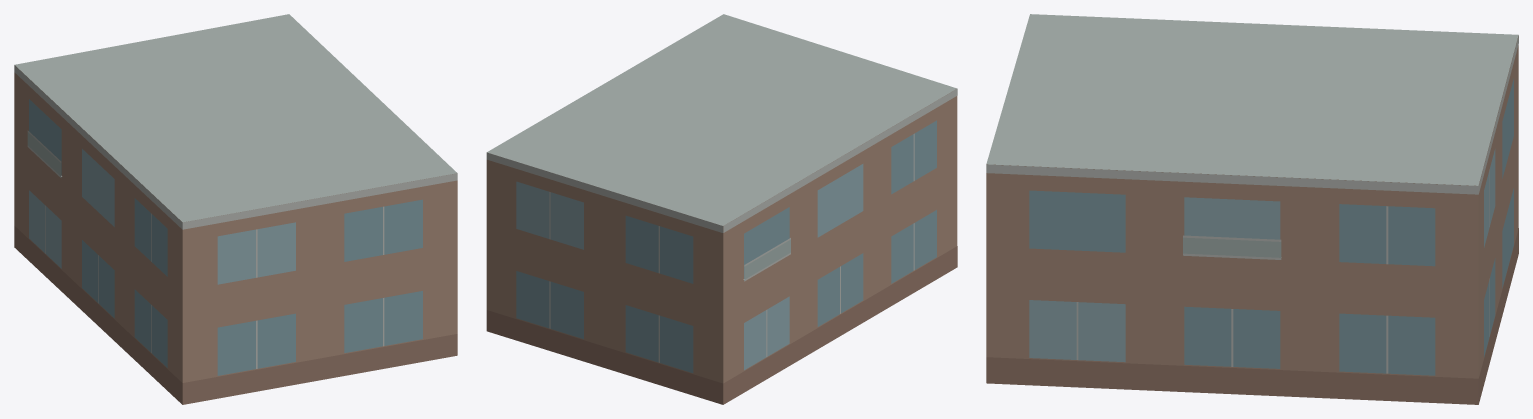
Rendered from survey-upis-32671507.glb.
3 views of the same model, side by side, from view 1: azimuth 30°, elevation 25°; view 2: azimuth 150°, elevation 25°; view 3: azimuth 270°, elevation 25° (orthographic). The views are drawn at different scales.
Visible parts, largest first — view 1: survey-upis-32671507.tmp; view 2: survey-upis-32671507.tmp; view 3: survey-upis-32671507.tmp.
Part boxes in pixels (x1=…): survey-upis-32671507.tmp: x1=14, y1=14, x2=457, y2=404; survey-upis-32671507.tmp: x1=486, y1=14, x2=957, y2=404; survey-upis-32671507.tmp: x1=986, y1=14, x2=1518, y2=404.
Bounding box in the file's own units: 10.28 × 6.1 × 13.45.
